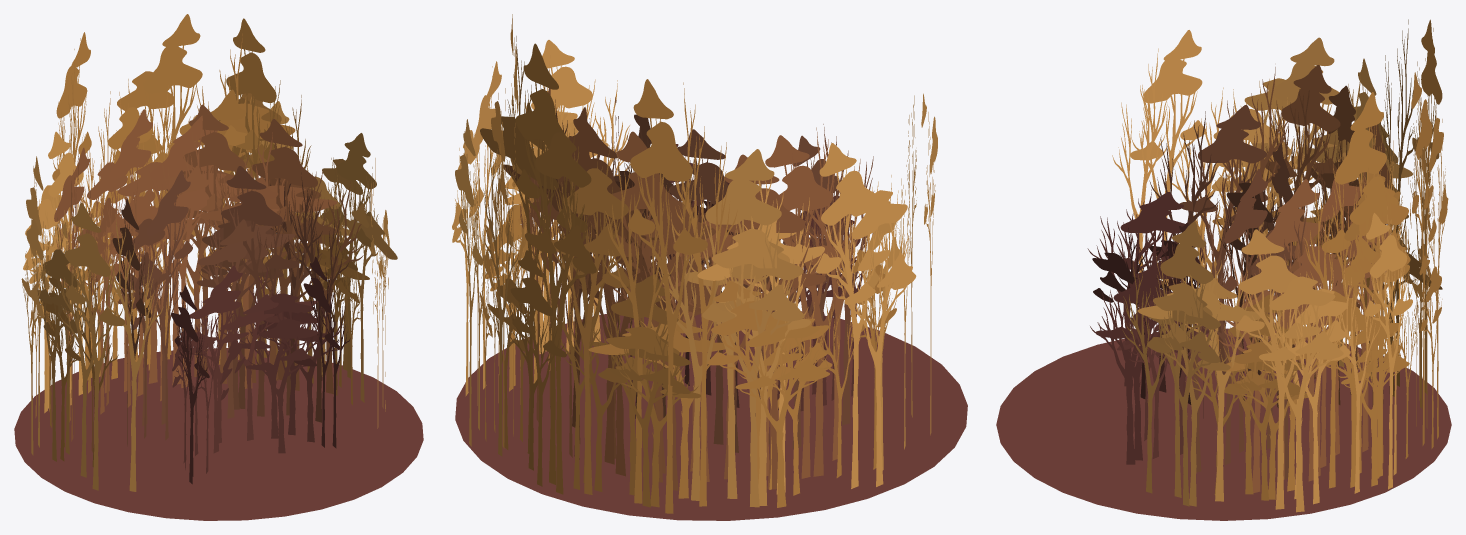
File: forest_autumn14.glb
The picture shows the model from 3 angles, left to right: view 1: azimuth 30°, elevation 25°; view 2: azimuth 150°, elevation 25°; view 3: azimuth 270°, elevation 25°; orthographic projection. The views are drawn at different scales.
Visible parts, largest first — view 1: Cylinder.001, Cylinder.075, Cylinder.000, Cylinder.015, Cylinder.005, Cylinder.004, Cylinder.112, Cylinder.006, Cylinder.002, Cylinder.003; view 2: Cylinder.001, Cylinder.004, Cylinder.005, Cylinder.002, Cylinder.112, Cylinder.000, Cylinder.006, Cylinder.003, Cylinder.075, Cylinder.015; view 3: Cylinder.001, Cylinder.006, Cylinder.004, Cylinder.005, Cylinder.003, Cylinder.075, Cylinder.015, Cylinder.000, Cylinder.112, Cylinder.002.
Part boxes in pixels (<box>): Cylinder.001: <box>14,348,423,520</box>; Cylinder.075: <box>112,145,349,446</box>; Cylinder.000: <box>51,115,363,441</box>; Cylinder.015: <box>171,256,350,484</box>; Cylinder.005: <box>21,131,163,491</box>; Cylinder.004: <box>52,14,311,380</box>; Cylinder.112: <box>70,104,283,453</box>; Cylinder.006: <box>219,101,397,428</box>; Cylinder.002: <box>29,201,164,466</box>; Cylinder.003: <box>136,191,369,405</box>; Cylinder.001: <box>455,308,967,520</box>; Cylinder.004: <box>480,14,737,513</box>; Cylinder.005: <box>655,93,937,507</box>; Cylinder.002: <box>564,249,896,507</box>; Cylinder.112: <box>532,107,862,490</box>; Cylinder.000: <box>503,88,865,489</box>; Cylinder.006: <box>452,40,630,456</box>; Cylinder.003: <box>479,181,606,489</box>; Cylinder.075: <box>548,97,874,452</box>; Cylinder.015: <box>667,144,872,411</box>; Cylinder.001: <box>996,328,1451,520</box>; Cylinder.006: <box>1122,206,1412,512</box>; Cylinder.004: <box>1304,19,1448,488</box>; Cylinder.005: <box>1112,30,1412,378</box>; Cylinder.003: <box>1185,254,1442,500</box>; Cylinder.075: <box>1149,105,1306,479</box>; Cylinder.015: <box>1087,189,1209,464</box>; Cylinder.000: <box>1218,85,1381,493</box>; Cylinder.112: <box>1222,65,1391,467</box>; Cylinder.002: <box>1193,149,1442,426</box>.
Size of the model in its own units: 38.31 by 35.86 by 38.31.
